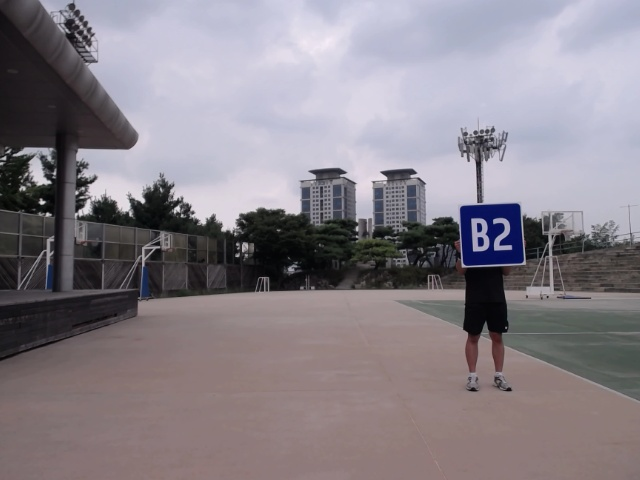delivery_b2: (458, 202, 525, 268)
